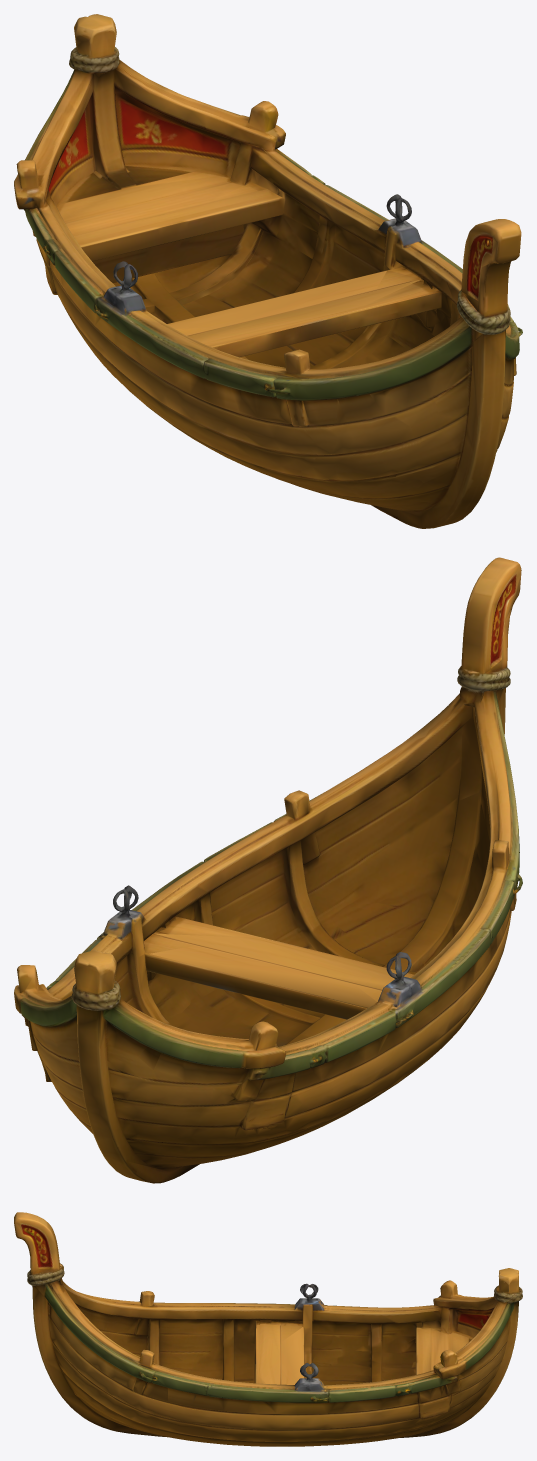
Rendered from gf_rowboat_335_a.glb.
The picture shows the model from 3 angles, top to bottom: view 1: azimuth 30°, elevation 25°; view 2: azimuth 150°, elevation 25°; view 3: azimuth 270°, elevation 25°; orthographic projection. The views are drawn at different scales.
Parts seen in each view (by area): view 1: GF_RowBoat_335_A; view 2: GF_RowBoat_335_A; view 3: GF_RowBoat_335_A.
Boxes of the visible parts, left/top/right/bottom form: GF_RowBoat_335_A: left=14, top=14, right=522, bottom=528; GF_RowBoat_335_A: left=14, top=557, right=522, bottom=1183; GF_RowBoat_335_A: left=14, top=1212, right=522, bottom=1446.
Size of the model in its own units: 1.42 by 1.62 by 3.35.
Materials: 1 (1 with a texture image).
